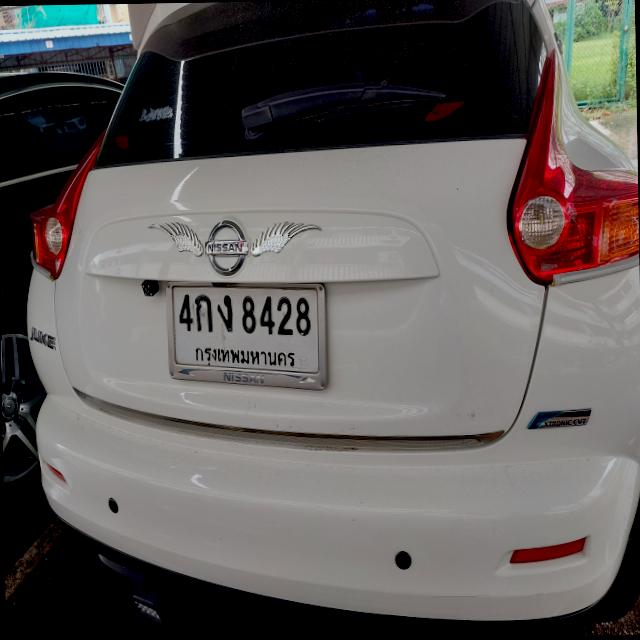license_plate: (165, 274, 328, 397)
